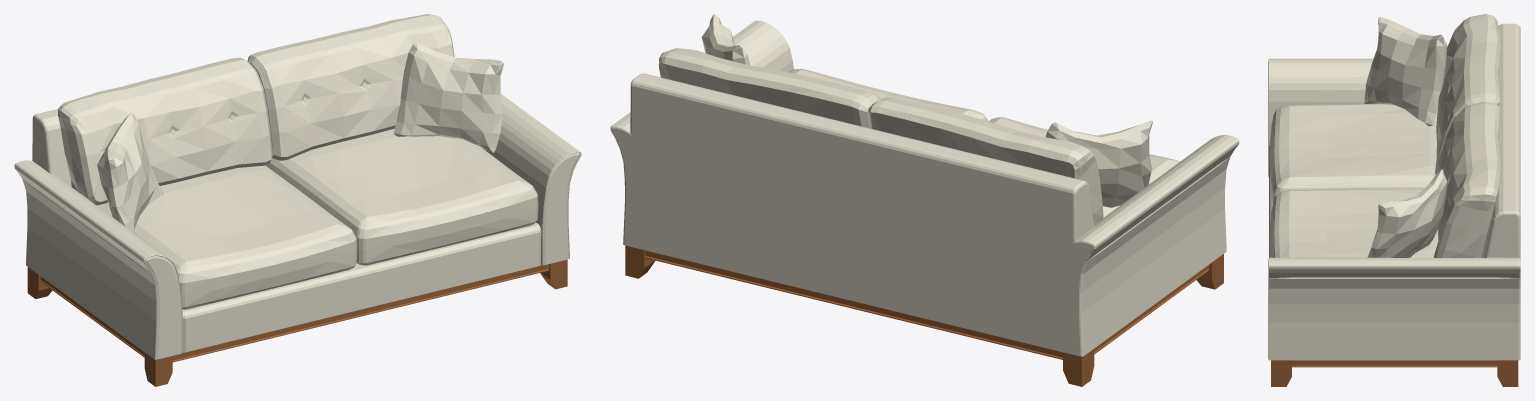
Rendered from Sofa.glb.
3 renders of one model, left to right at view 1: azimuth 30°, elevation 25°; view 2: azimuth 150°, elevation 25°; view 3: azimuth 270°, elevation 25°, orthographic. The views are drawn at different scales.
Parts seen in each view (by area): view 1: Node; view 2: Node; view 3: Node.
Boxes of the visible parts, x1,y1,x2,y2 form: Node: (14, 14, 581, 386); Node: (610, 14, 1239, 386); Node: (1268, 14, 1520, 386).
Size of the model in its own units: 72 by 31.15 by 37.12.
